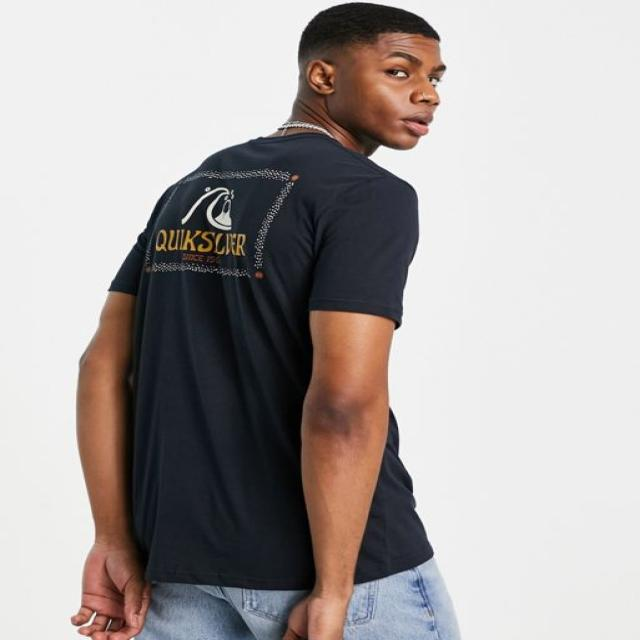tshirt: (106, 131, 438, 589)
